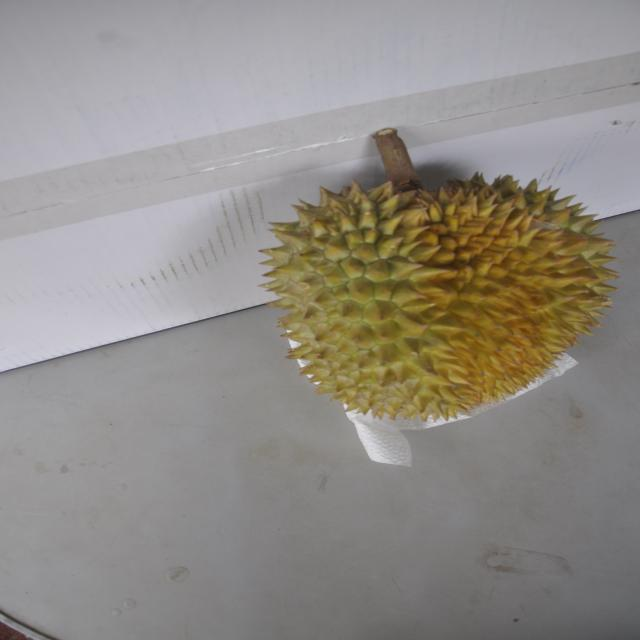mature: (254, 163, 616, 427)
